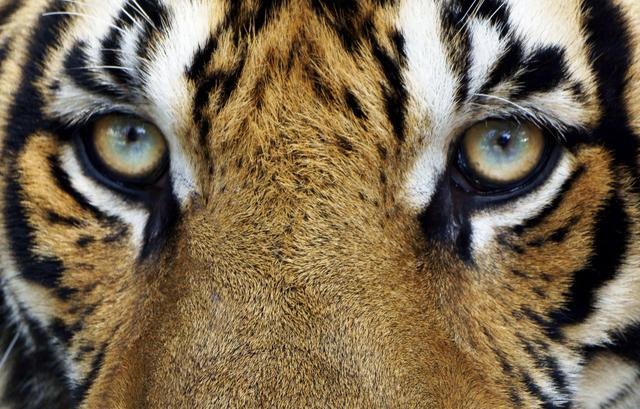Tigrew: (20, 7, 622, 397)
